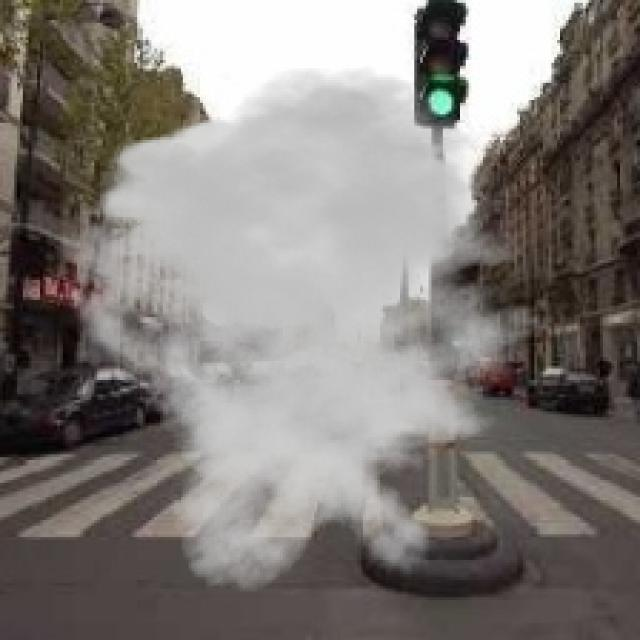smoke: (46, 66, 574, 594)
